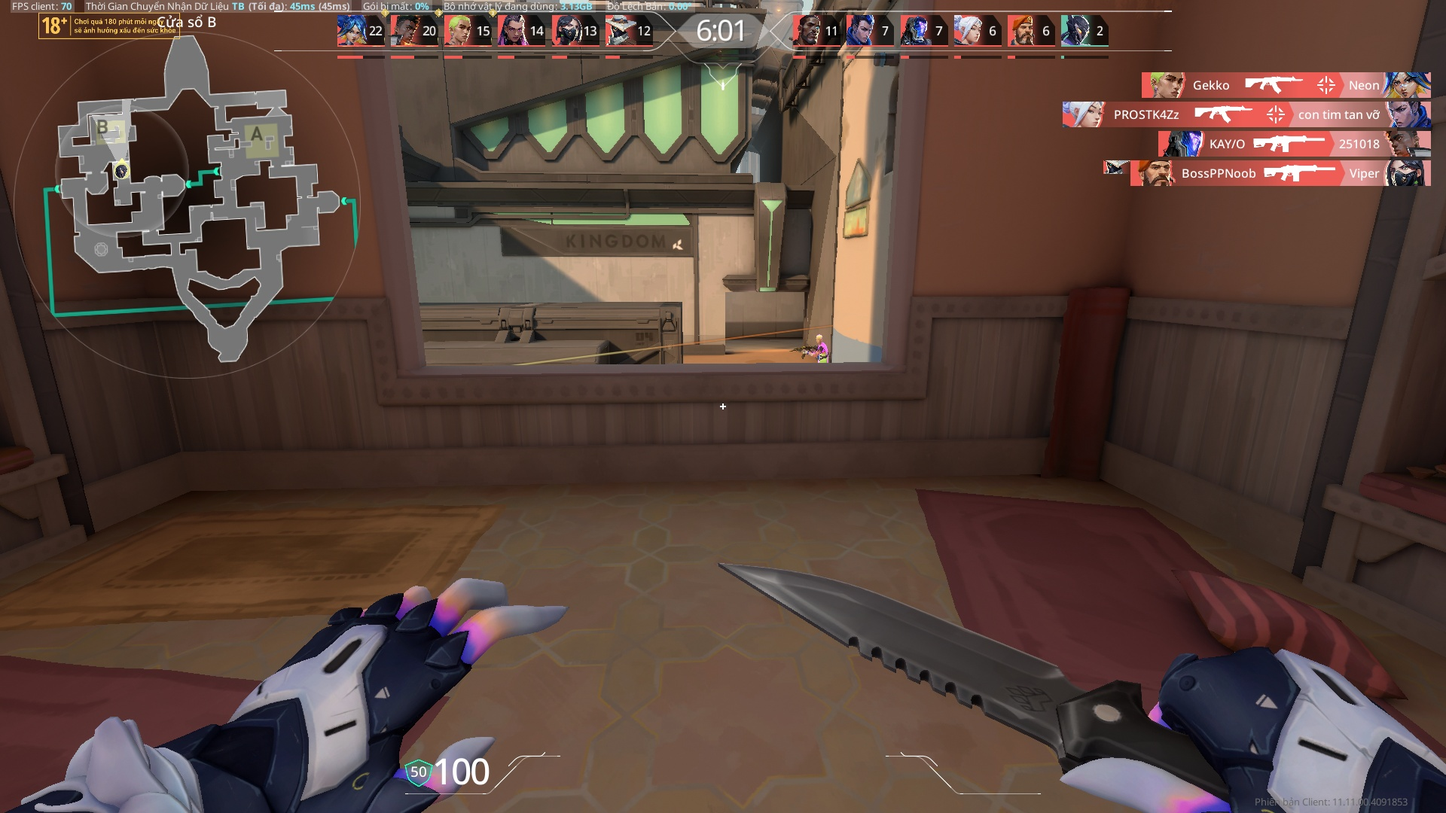body: (813, 340, 833, 361)
head: (815, 330, 822, 340)
